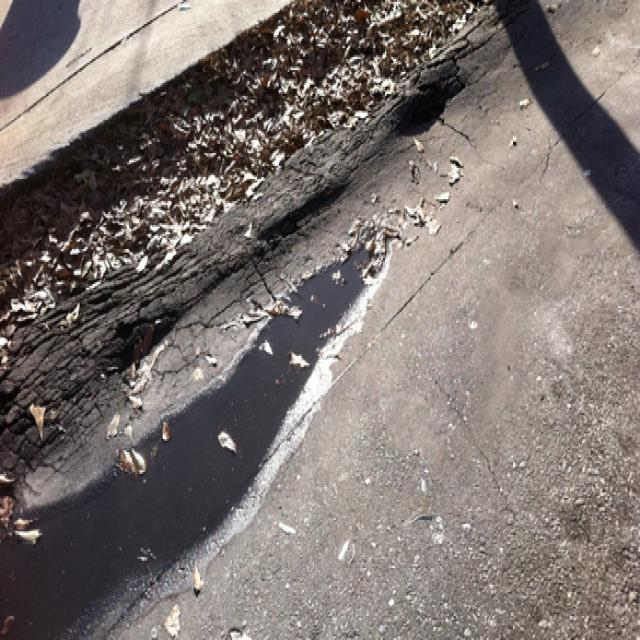Pothole: (6, 162, 512, 640)
